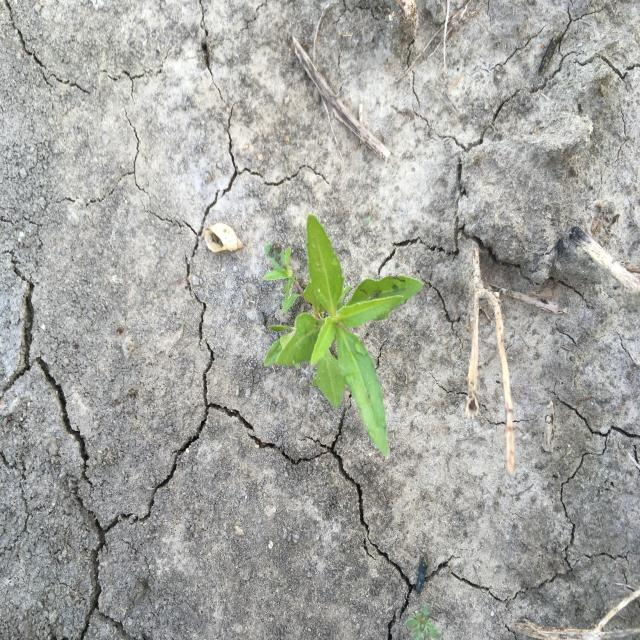Eclipta: (261, 213, 426, 458)
